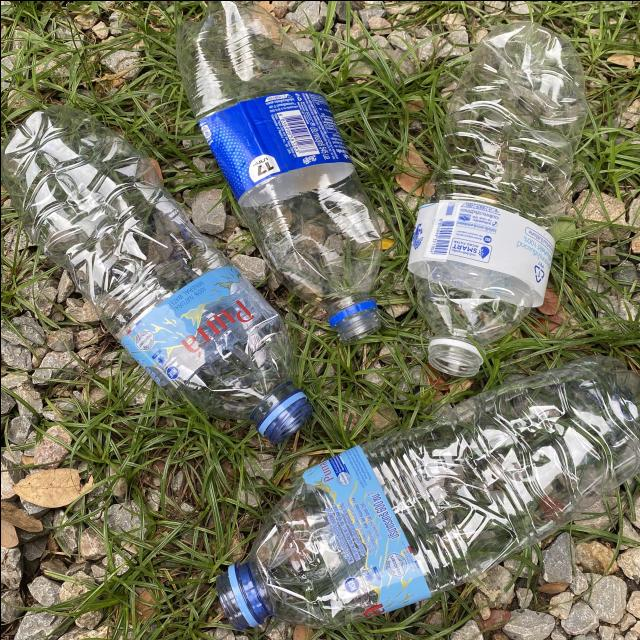plastik: (215, 356, 640, 628), (0, 106, 312, 439), (175, 0, 381, 342), (408, 22, 586, 375)
